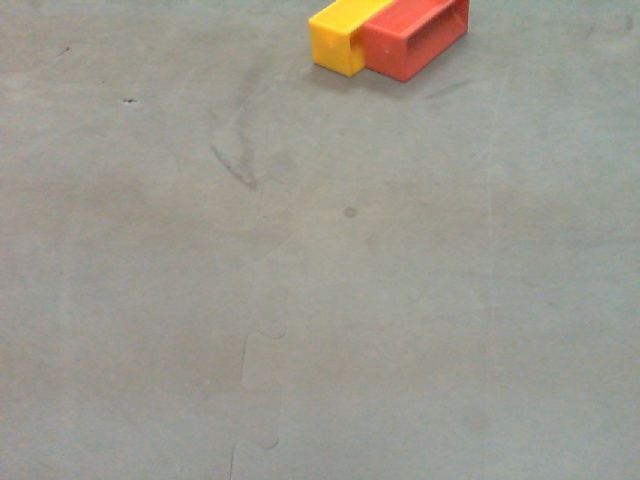RedSample: (363, 1, 472, 83)
YellowSample: (310, 1, 376, 72)
